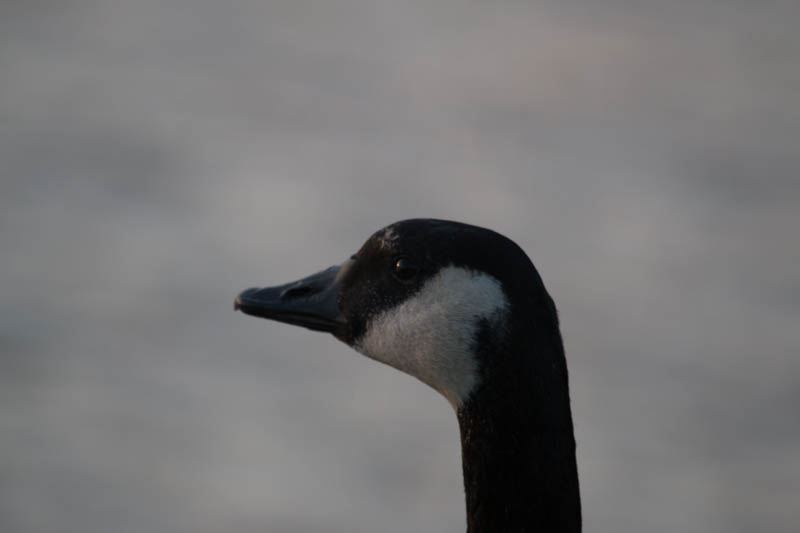goose-head: (232, 217, 570, 411)
